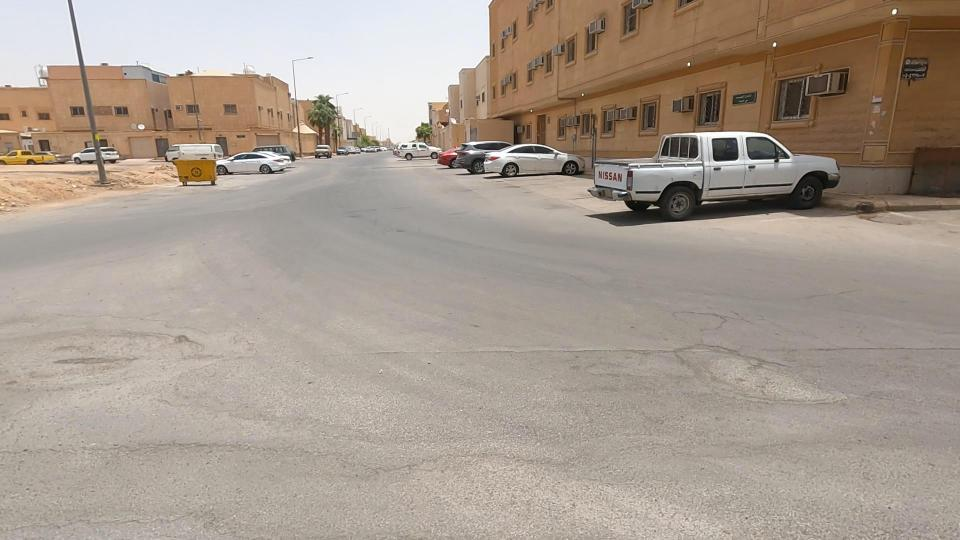POTHOLES: (588, 277, 911, 467)
